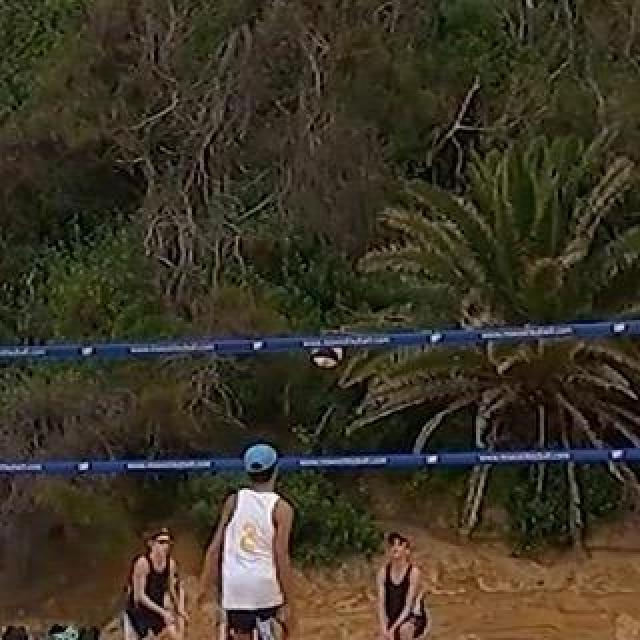volleyball: (310, 338, 344, 368)
